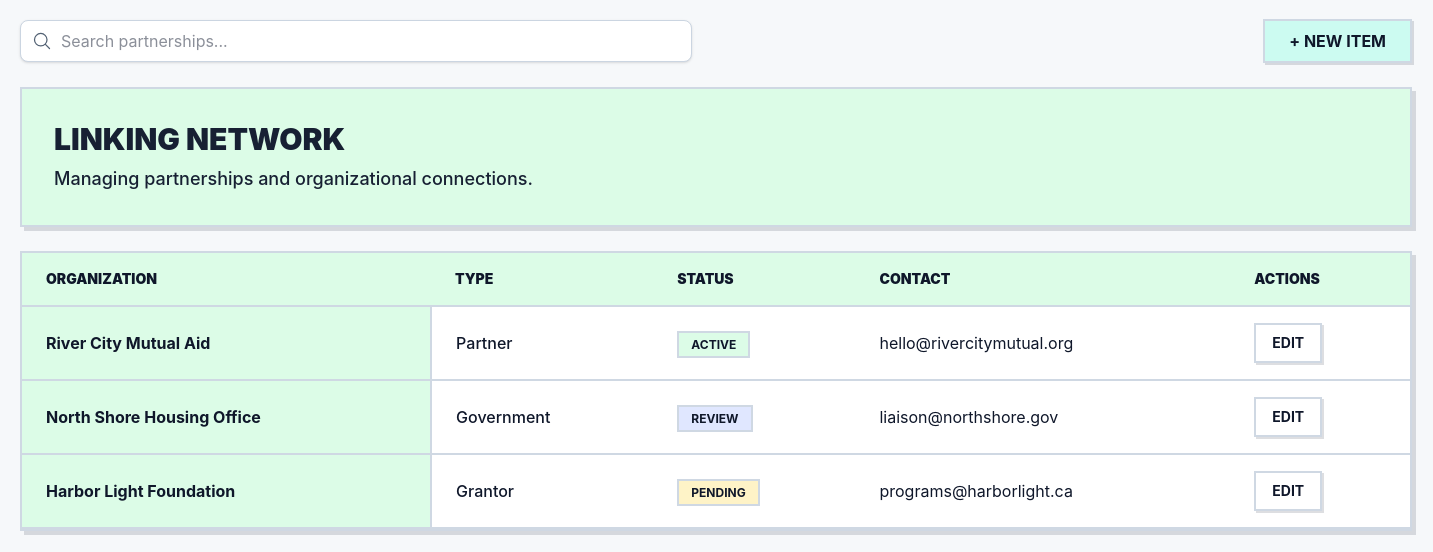
Test: LinkingModulePage › filters visible organizations by type
Check: the text "River City Mutual Aid" is shown, box x1=22 y1=306 x2=431 y2=380
Type "grantor" into the search field labelled "Search partnerships..." at {"x": 356, "y": 41}, box x1=20 y1=20 x2=692 y2=62
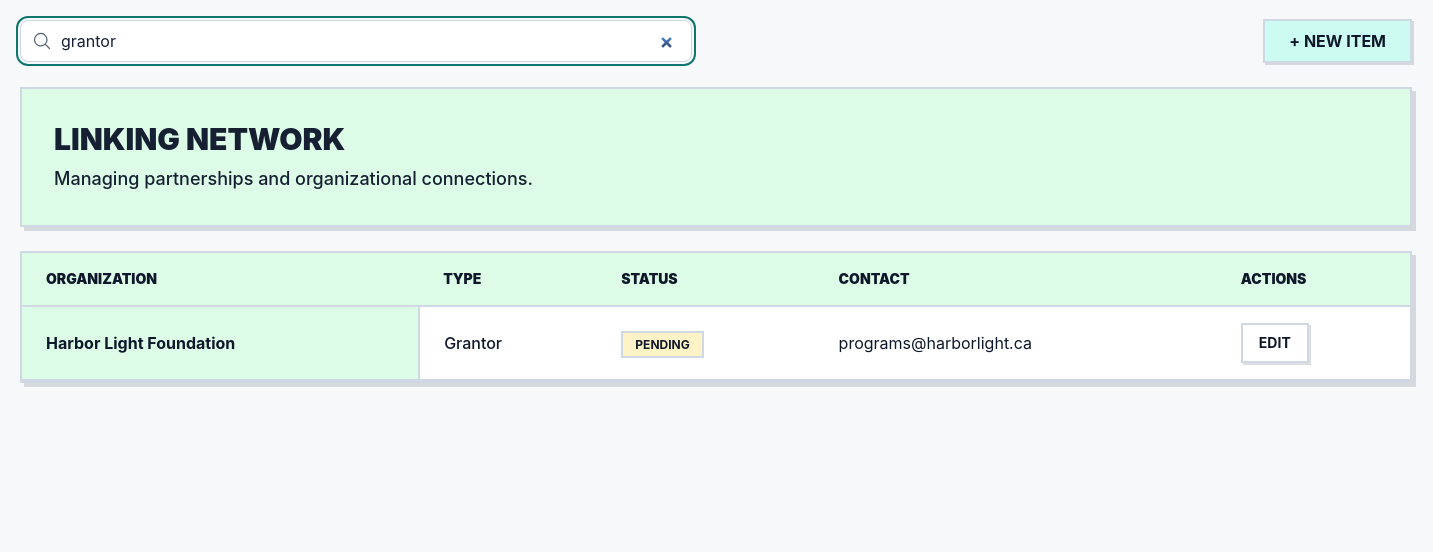
Check: the text "Harbor Light Foundation" is shown, box x1=22 y1=306 x2=419 y2=380
Check: the text "River City Mutual Aid" is gone
Check: the text "North Shore Housing Office" is gone
